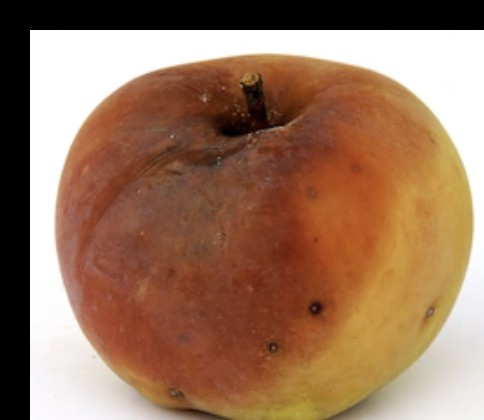rotten_apple: (55, 55, 476, 420)
